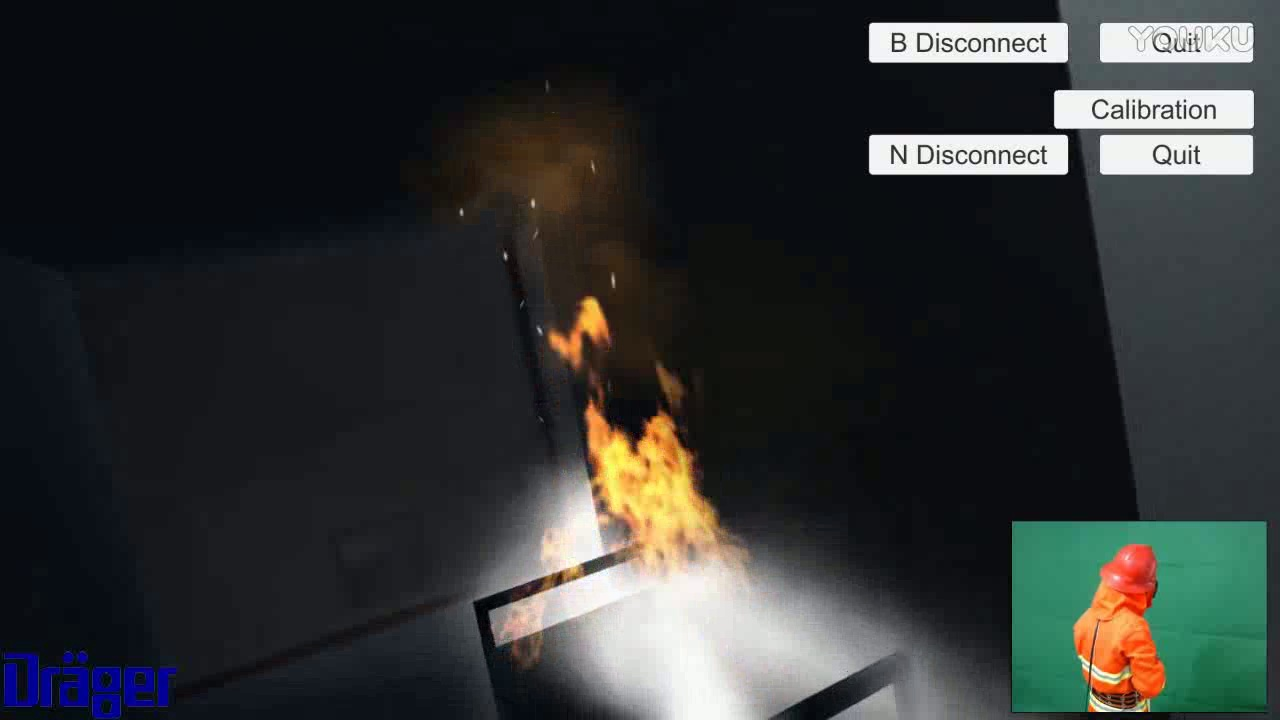fire: (548, 292, 747, 592)
